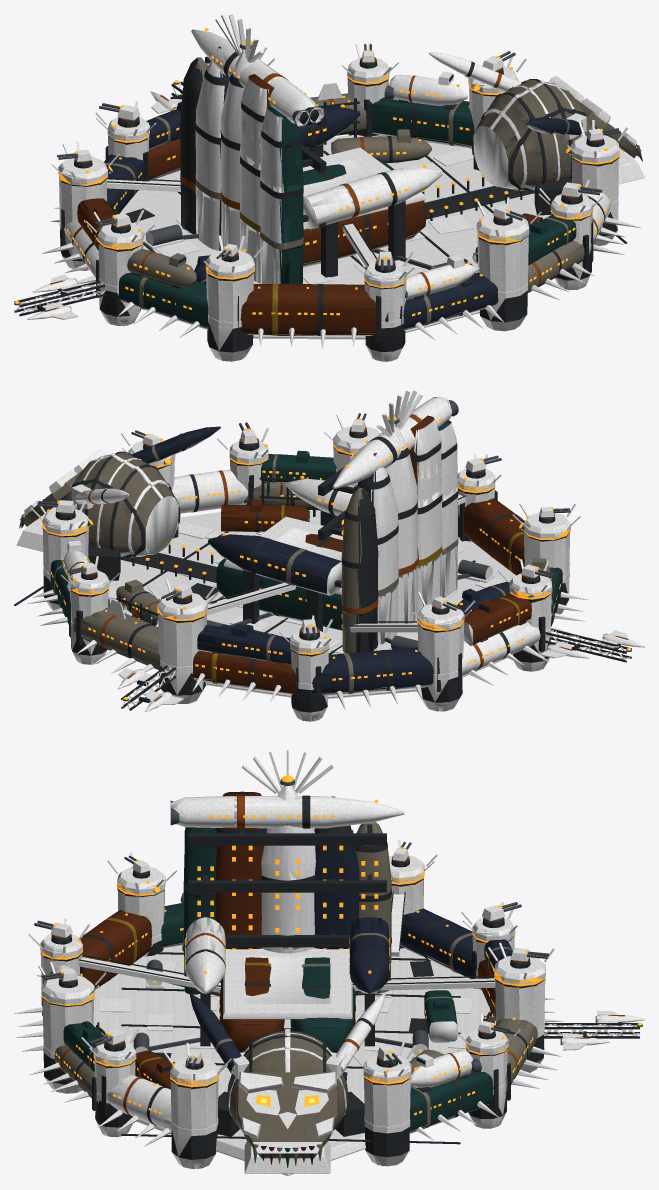
File: place_landmark_skerris_throne.glb
3 views of the same model, one above another, from view 1: azimuth 30°, elevation 25°; view 2: azimuth 150°, elevation 25°; view 3: azimuth 270°, elevation 25° (orthographic). The views are drawn at different scales.
Visible parts, largest first — view 1: LOD0_Armor, LOD2_Armor, LOD0_Hull_graphite, LOD1_Armor, LOD0_Hull, LOD0_MechanicalDark_deck, LOD1_Hull, LOD1_Hull_graphite, LOD1_Hull_teal, LOD2_Hull_graphite, LOD1_Hull_work, LOD2_Hull (+18 smaller); view 2: LOD0_Armor, LOD2_Armor, LOD0_Hull_graphite, LOD1_Armor, LOD0_Hull, LOD1_Hull, LOD1_Hull_graphite, LOD1_Hull_navy, LOD0_MechanicalDark_deck, LOD1_Hull_work, LOD2_Hull_graphite, LOD2_Hull_navy (+18 smaller); view 3: LOD0_Armor, LOD0_Hull_graphite, LOD1_Hull, LOD2_Armor, LOD0_MechanicalDark_deck, LOD0_Hull, LOD2_Hull, LOD1_Hull_graphite, LOD1_Hull_work, LOD1_Hull_navy, LOD1_Armor, LOD2_Hull_graphite (+19 smaller).
Part boxes in pixels (x1,y1,x2,y2): LOD0_Armor: (28, 14, 644, 361); LOD2_Armor: (48, 15, 635, 361); LOD0_Hull_graphite: (14, 52, 627, 341); LOD1_Armor: (42, 16, 632, 360); LOD0_Hull: (14, 29, 640, 345); LOD0_MechanicalDark_deck: (120, 135, 550, 284); LOD1_Hull: (15, 29, 639, 338); LOD1_Hull_graphite: (14, 57, 626, 315); LOD1_Hull_teal: (118, 97, 576, 326); LOD2_Hull_graphite: (60, 56, 617, 352); LOD1_Hull_work: (77, 74, 539, 334); LOD2_Hull: (28, 29, 621, 336); LOD0_Armor: (17, 390, 641, 721); LOD2_Armor: (25, 391, 643, 721); LOD0_Hull_graphite: (14, 434, 631, 710); LOD1_Armor: (31, 391, 639, 720); LOD0_Hull: (33, 397, 644, 711); LOD1_Hull: (36, 399, 644, 711); LOD1_Hull_graphite: (17, 429, 631, 710); LOD1_Hull_navy: (133, 426, 509, 693); LOD0_MechanicalDark_deck: (108, 511, 516, 654); LOD1_Hull_work: (192, 415, 531, 693); LOD2_Hull_graphite: (43, 430, 568, 712); LOD2_Hull_navy: (133, 428, 509, 692); LOD0_Armor: (14, 750, 641, 1175); LOD0_Hull_graphite: (42, 795, 639, 1144); LOD1_Hull: (18, 786, 643, 1145); LOD2_Armor: (27, 750, 642, 1175); LOD0_MechanicalDark_deck: (93, 945, 495, 1149); LOD0_Hull: (15, 785, 644, 1146); LOD2_Hull: (28, 785, 643, 1137); LOD1_Hull_graphite: (44, 824, 639, 1144); LOD1_Hull_work: (79, 792, 495, 1163); LOD1_Hull_navy: (189, 828, 512, 1164); LOD1_Armor: (15, 753, 624, 1168); LOD2_Hull_graphite: (41, 796, 544, 1159).
Size of what is drawn, in the model's own units: 217 by 86.78 by 190.
16 materials, 13 textured.
